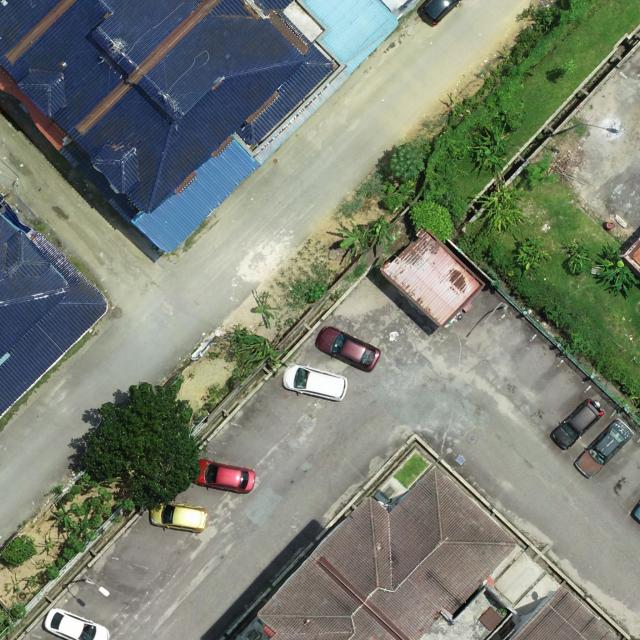Tree: (82, 380, 202, 512), (471, 174, 528, 234), (594, 240, 640, 298), (408, 200, 456, 243), (241, 331, 288, 368), (513, 232, 552, 274), (468, 122, 516, 156), (389, 142, 426, 182), (335, 220, 369, 262), (560, 235, 594, 275), (472, 137, 509, 172), (1, 534, 37, 568), (255, 290, 284, 330), (366, 216, 396, 254), (53, 504, 76, 537), (71, 513, 97, 537), (38, 537, 58, 554)
